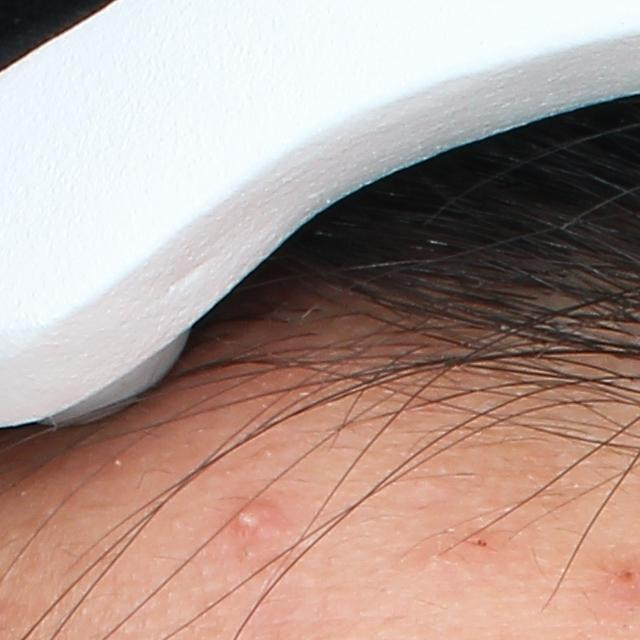pustule: (228, 497, 259, 543)
